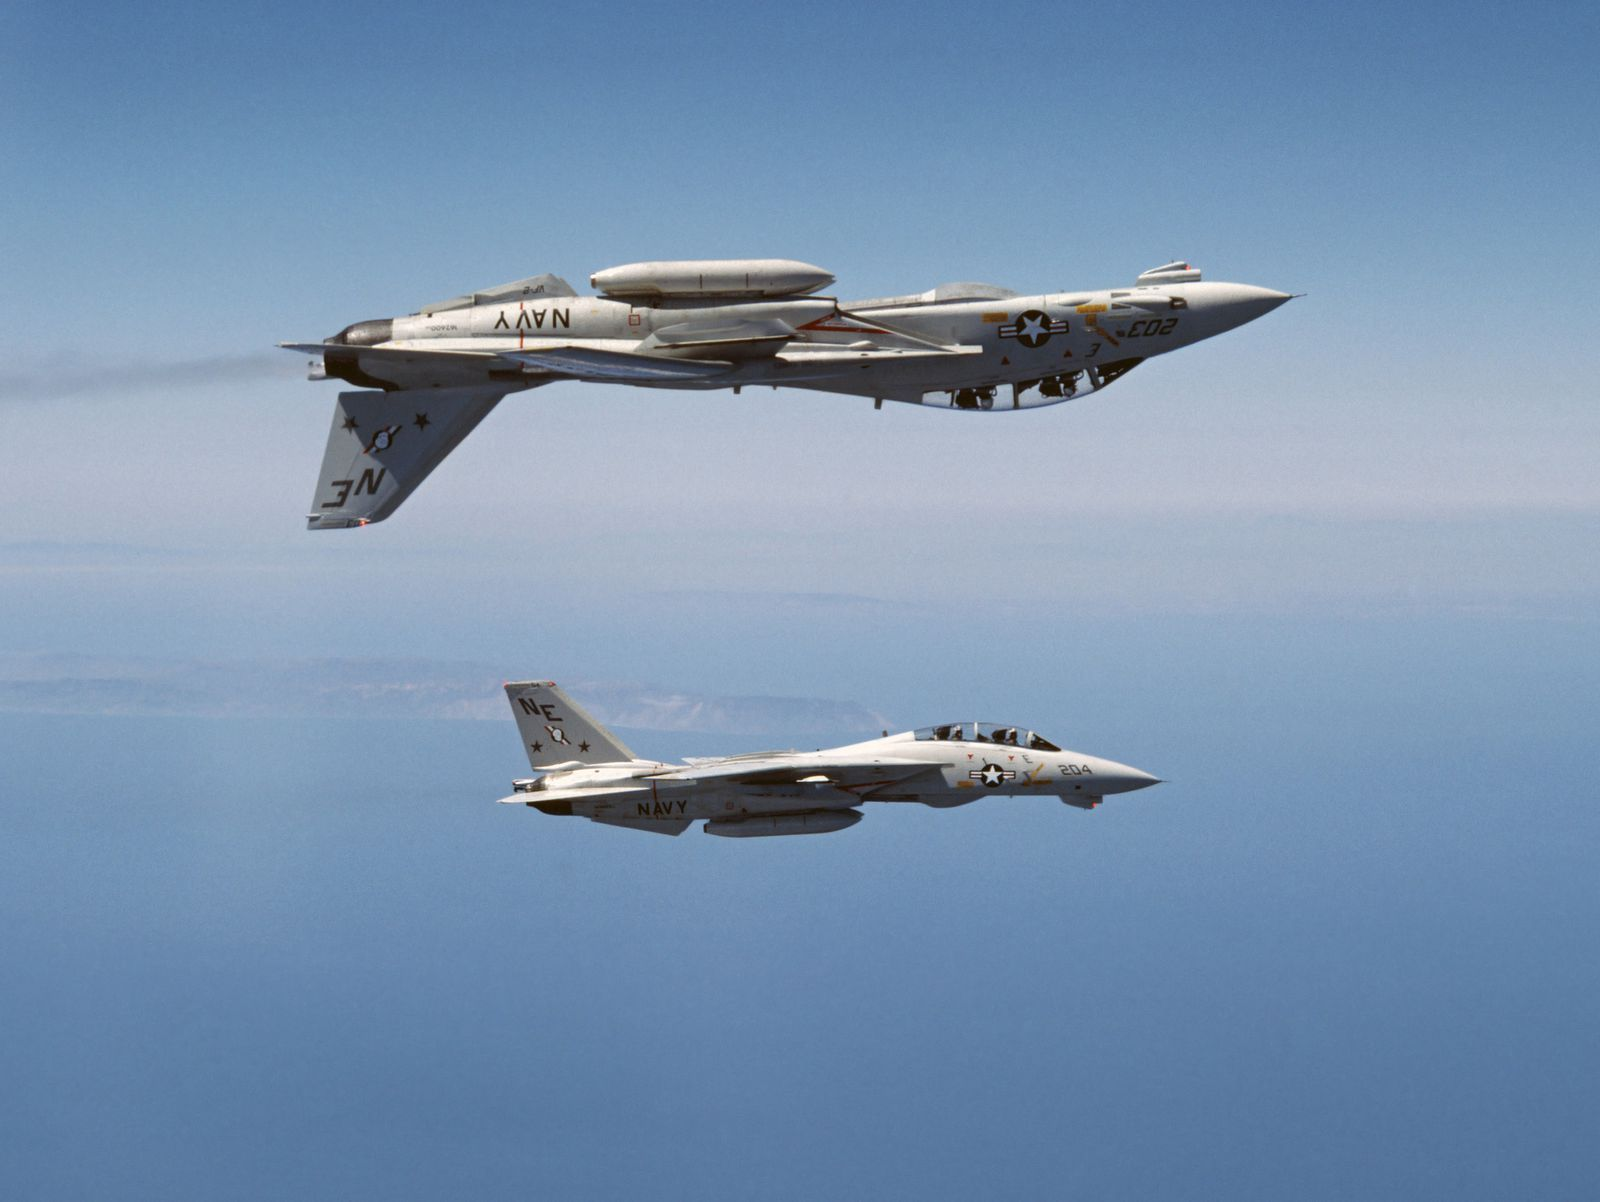F14: (272, 258, 1308, 532), (494, 678, 1173, 838)
